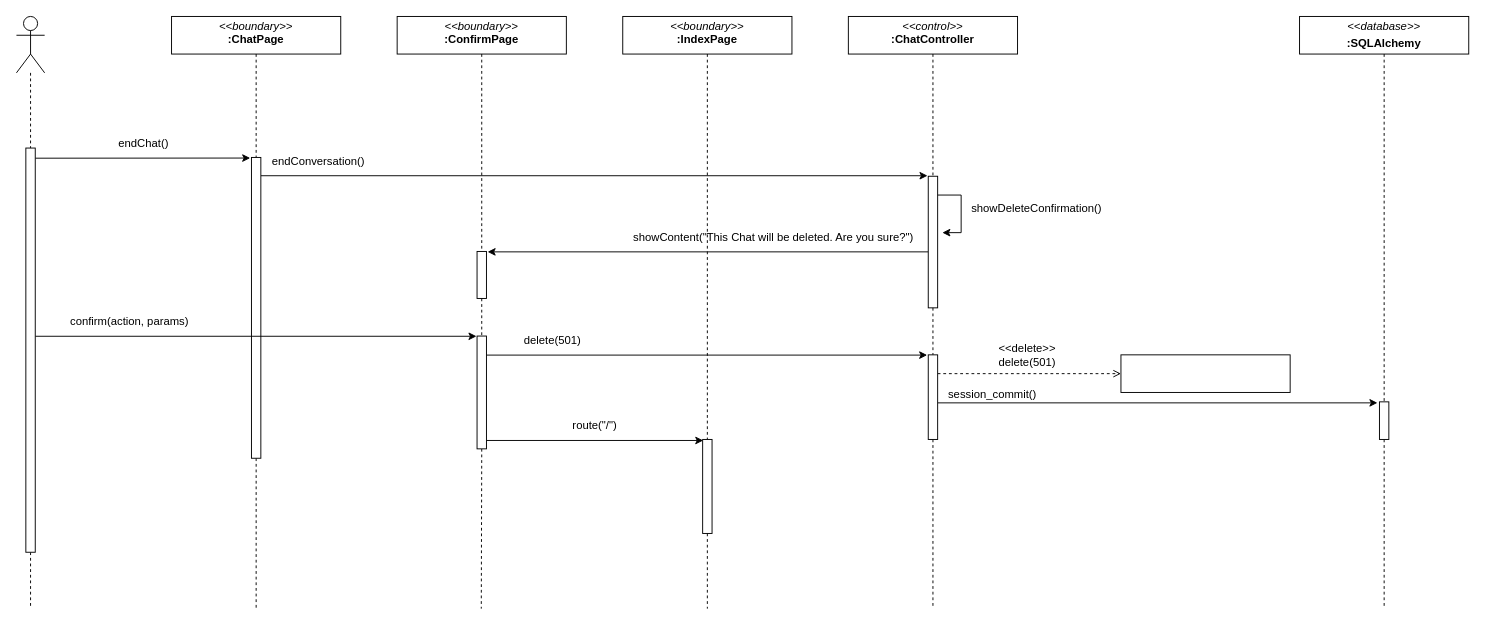
Image size: 1485x626. Some labels were removed from this diagram. The box of each missing label's shape, as (x1, y1, x2, y2) in pixels:
:User: (16, 16, 45, 73)
<<entity >> deleteChat:Chat: (1120, 354, 1290, 392)
